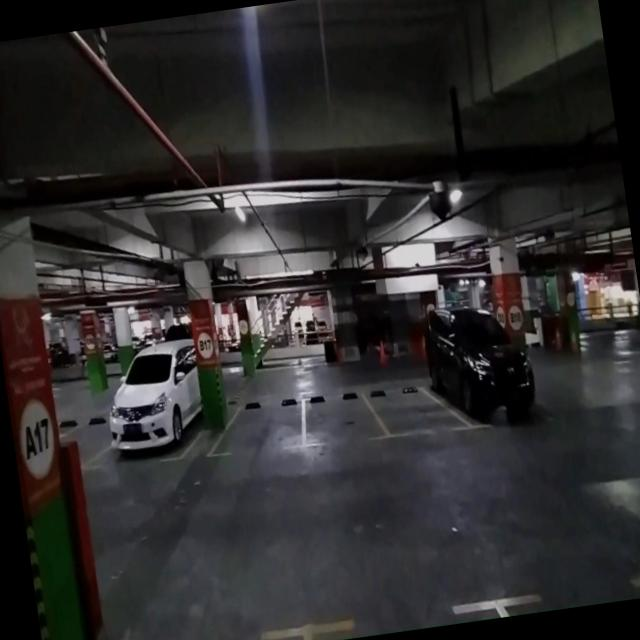car: (98, 346, 209, 466), (432, 325, 542, 437)
free: (218, 395, 310, 462), (297, 386, 382, 452), (372, 378, 454, 444)
